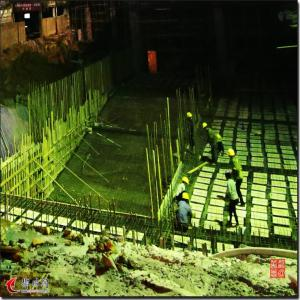yellow: (182, 192, 190, 203), (229, 148, 236, 160), (182, 178, 190, 188), (188, 113, 194, 123), (203, 123, 208, 131)
